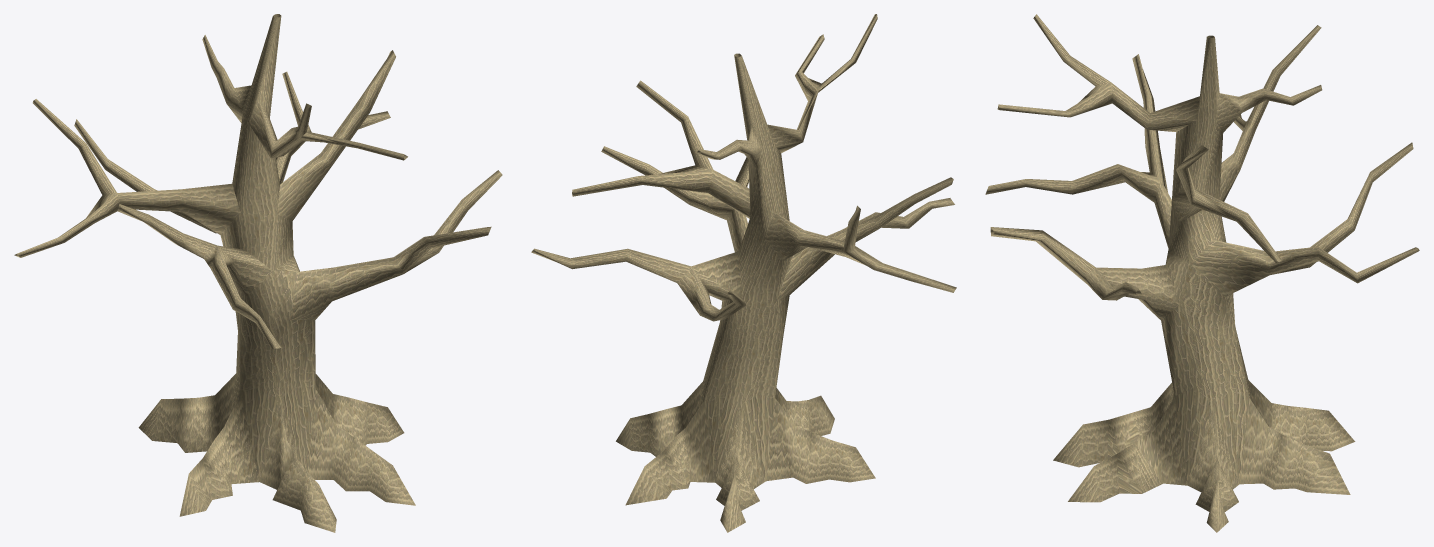
The model's file is INST_HTOWN_TREEB_LOD2.obj.
3 views of the same model, side by side, from view 1: azimuth 30°, elevation 25°; view 2: azimuth 150°, elevation 25°; view 3: azimuth 270°, elevation 25° (orthographic). The views are drawn at different scales.
Parts seen in each view (by area): view 1: t_TreeB_Lod2_01; view 2: t_TreeB_Lod2_01; view 3: t_TreeB_Lod2_01.
Part boxes in pixels (x1=…): t_TreeB_Lod2_01: x1=14, y1=14, x2=502, y2=532; t_TreeB_Lod2_01: x1=531, y1=14, x2=956, y2=532; t_TreeB_Lod2_01: x1=985, y1=14, x2=1419, y2=532.
Size of the model in its own units: 674 by 666 by 603.
